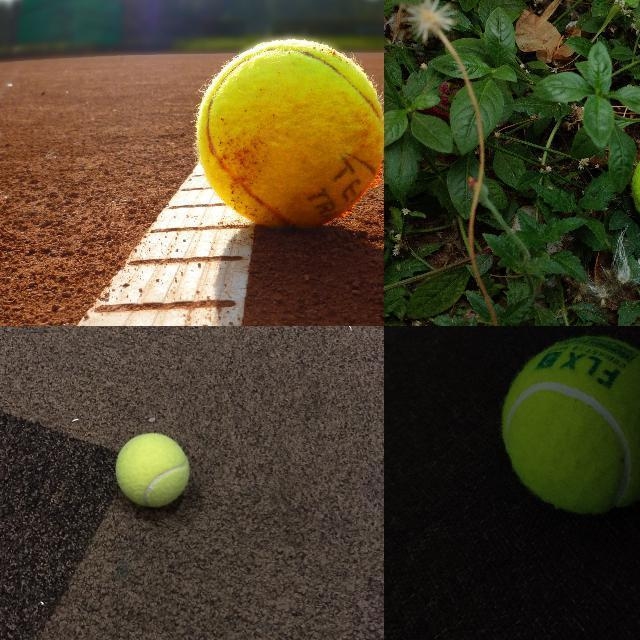tennis-ball: (195, 39, 383, 232), (500, 334, 639, 514), (115, 432, 192, 508)
